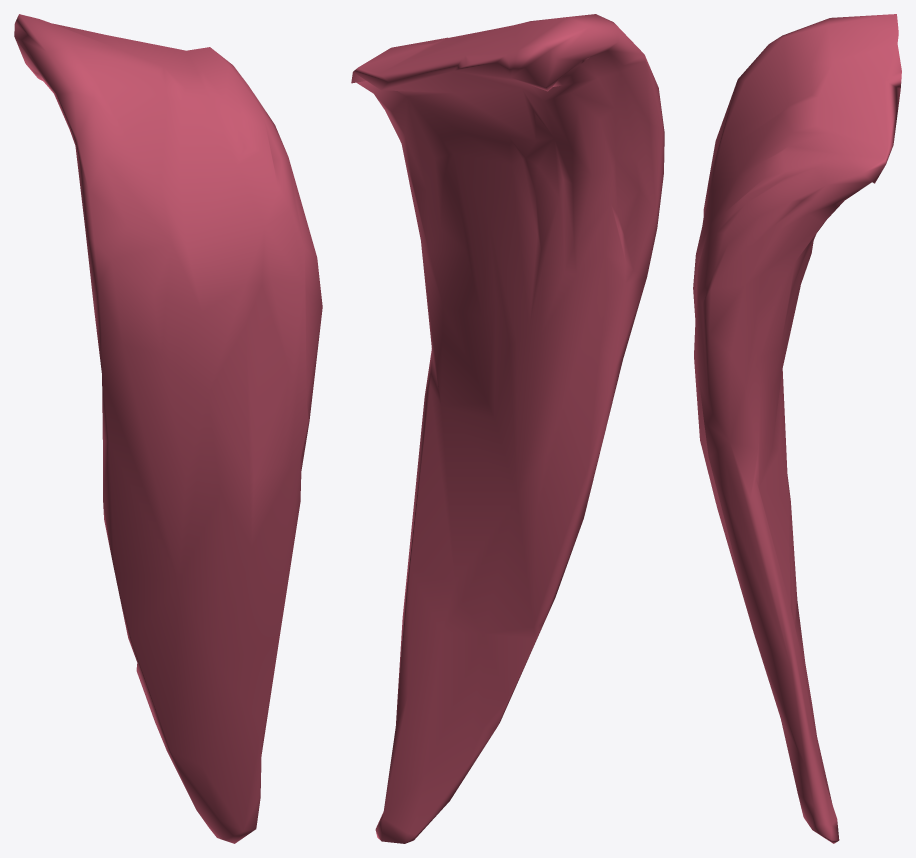
The picture shows the model from 3 angles, left to right: view 1: azimuth 30°, elevation 25°; view 2: azimuth 150°, elevation 25°; view 3: azimuth 270°, elevation 25°; orthographic projection. The views are drawn at different scales.
Parts seen in each view (by area): view 1: 右侧颏舌骨肌; view 2: 右侧颏舌骨肌; view 3: 右侧颏舌骨肌.
Part boxes in pixels (x1,y1,x2,y2): 右侧颏舌骨肌: [14, 14, 322, 843]; 右侧颏舌骨肌: [351, 14, 664, 843]; 右侧颏舌骨肌: [693, 14, 901, 843].
Bounding box in the file's own units: 0.0166 × 0.059 × 0.0149.
